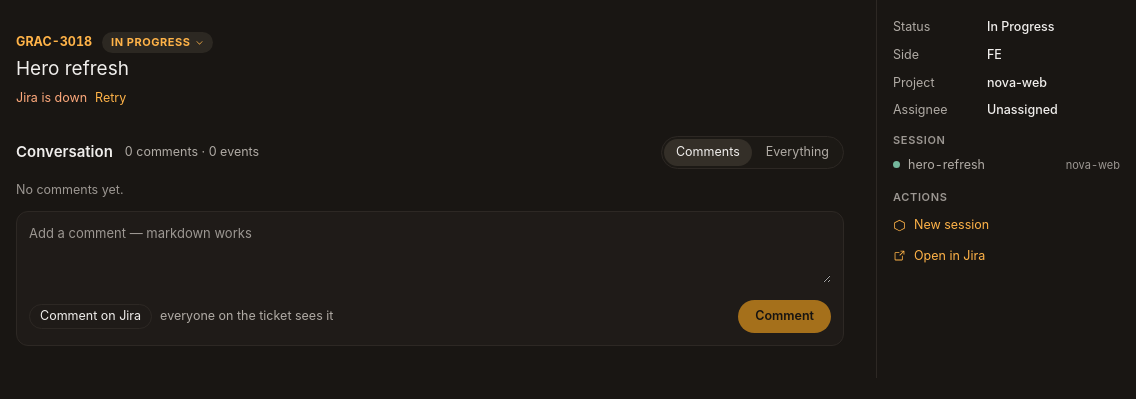
Test case: TicketPage (HIVE-203) › shows a failed read with Retry in place of the description
This screenshot has width=1136, height=399.
Click the button "Retry". click: (111, 99)
box: [95, 89, 126, 108]
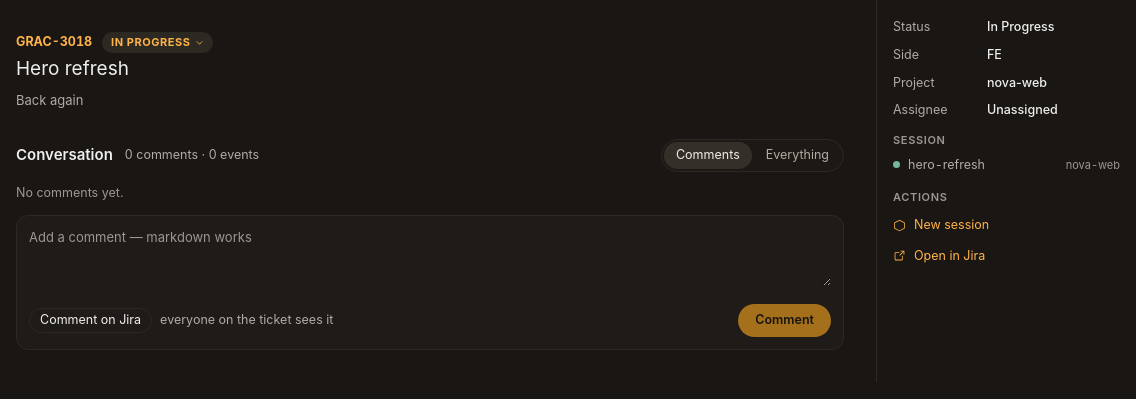
expect the text "Back again" is shown: met, box [16, 92, 83, 108]
